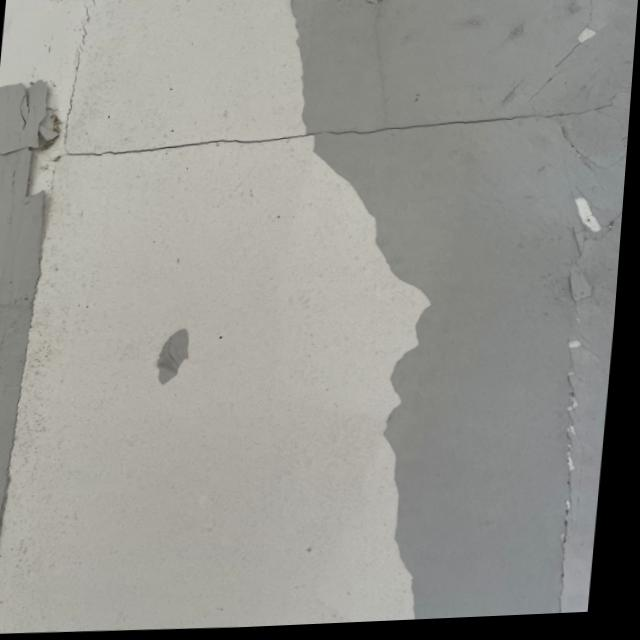Crack: (60, 92, 633, 170), (530, 195, 627, 620), (0, 189, 67, 635), (0, 76, 65, 165)
